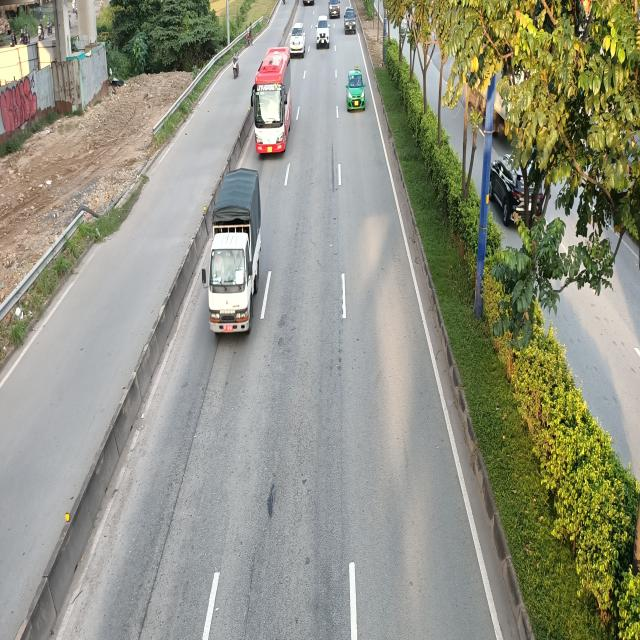car: (346, 67, 367, 111), (289, 22, 306, 56), (316, 16, 330, 48)
coach: (252, 46, 296, 156)
truck: (202, 167, 263, 336)
